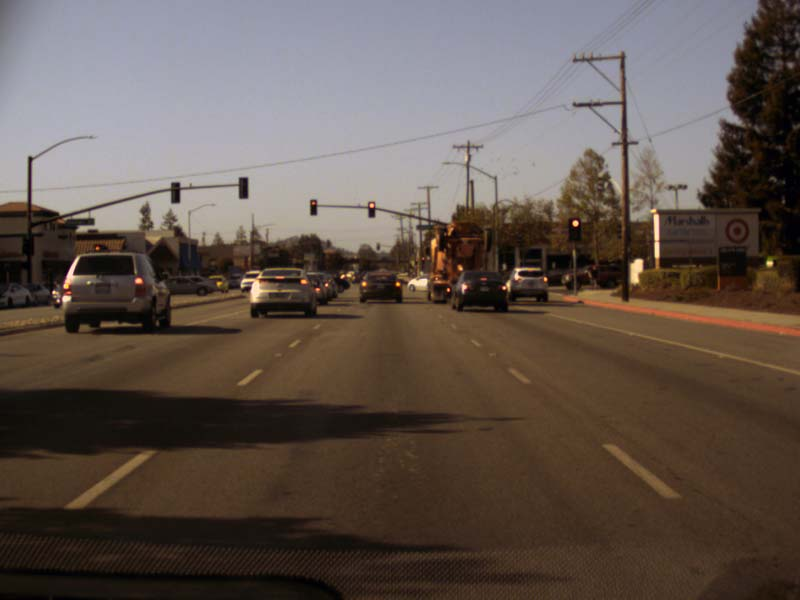Red: (567, 219, 581, 238), (310, 198, 317, 217), (367, 201, 375, 217), (421, 256, 424, 268)
